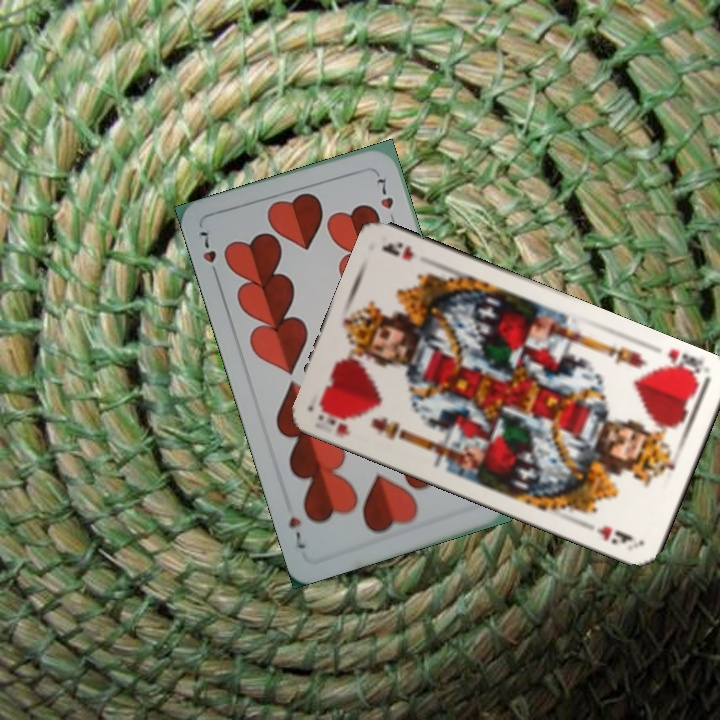H7: (195, 227, 221, 282)
HK: (654, 344, 706, 384), (315, 402, 358, 440)
